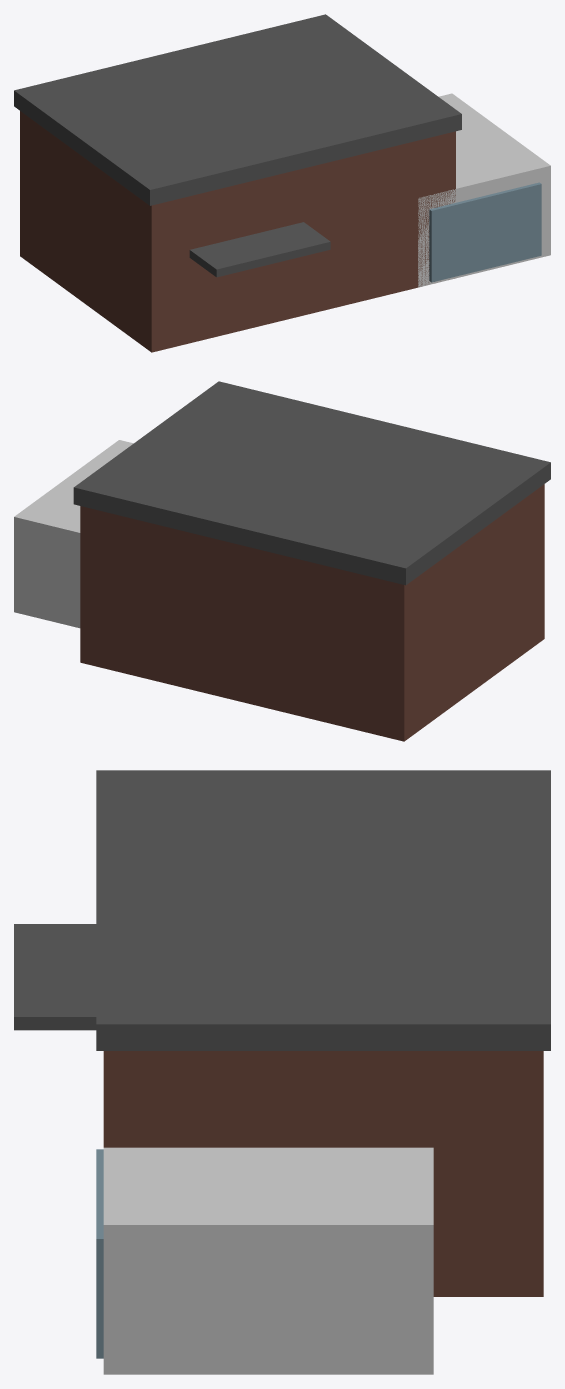
File: house_02.glb
3 views of the same model, one above another, from view 1: azimuth 30°, elevation 25°; view 2: azimuth 150°, elevation 25°; view 3: azimuth 270°, elevation 25° (orthographic). The views are drawn at different scales.
Size of the model in its own units: 21.2 by 8.3 by 14.65.
